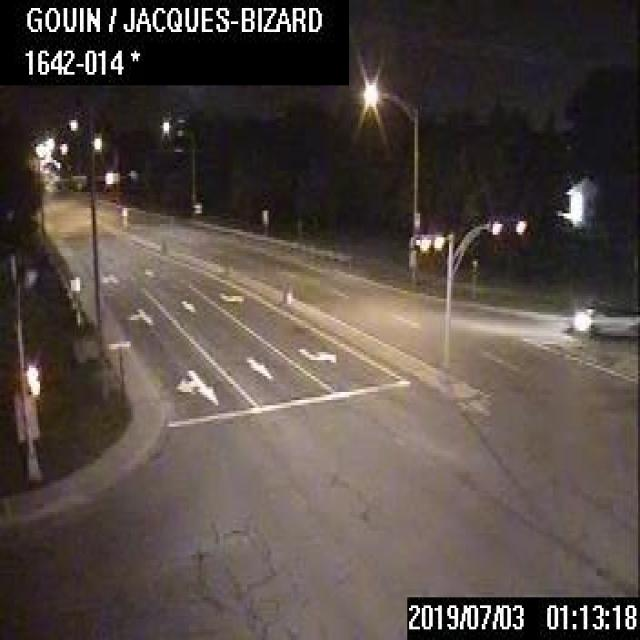vehicle: (571, 296, 638, 336)
